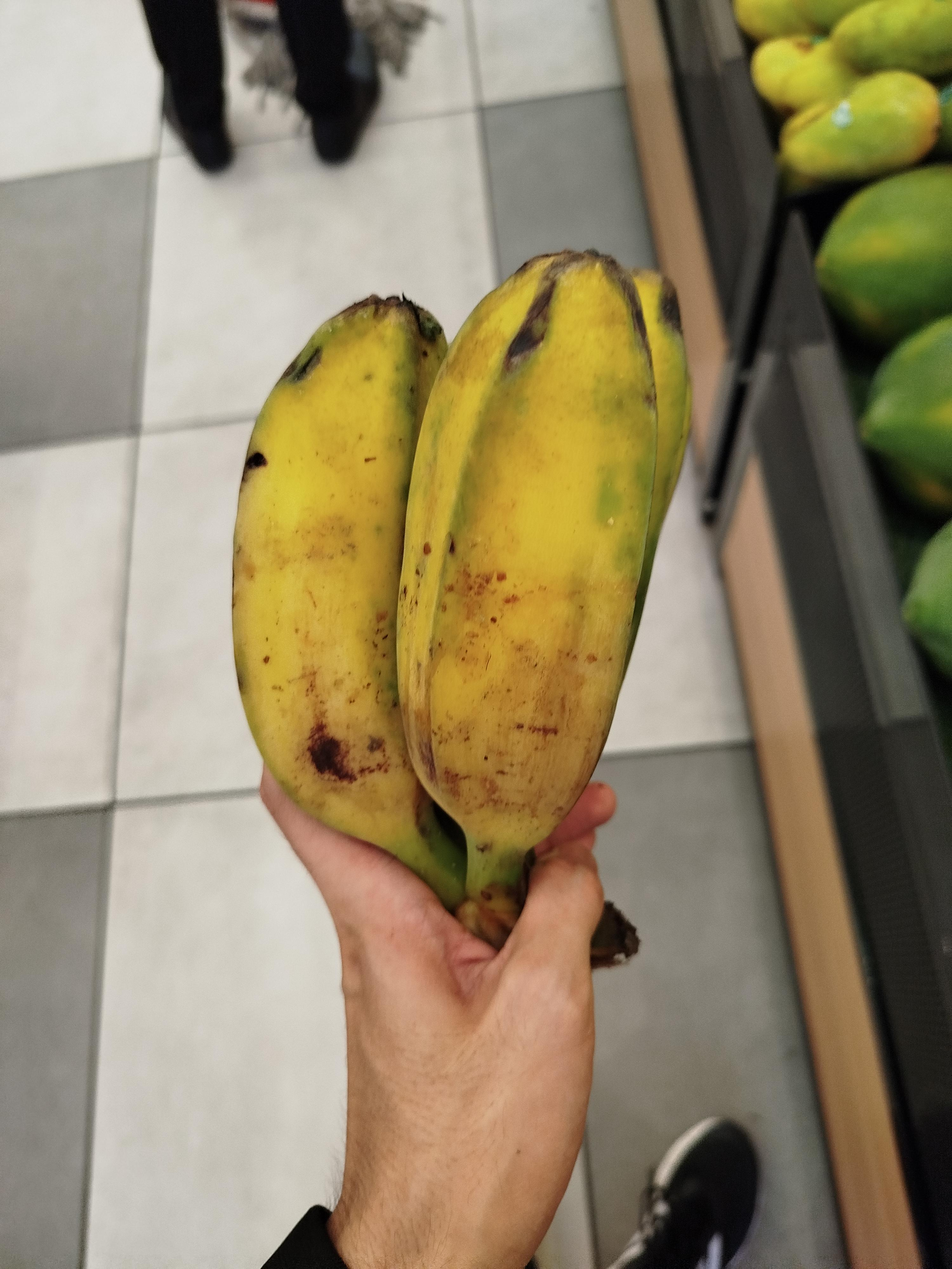underripe: (233, 251, 690, 856)
